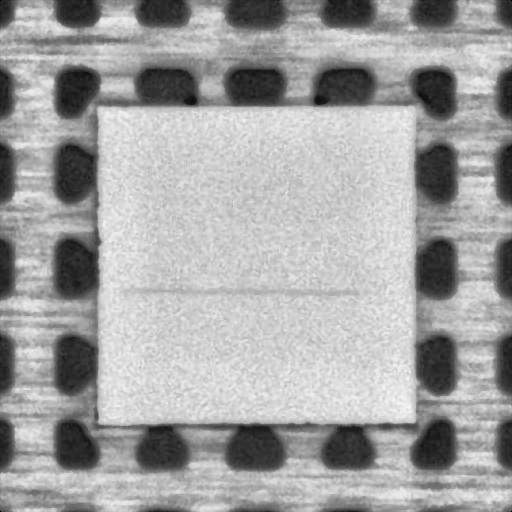DIE_CRACK: (119, 282, 371, 296)
